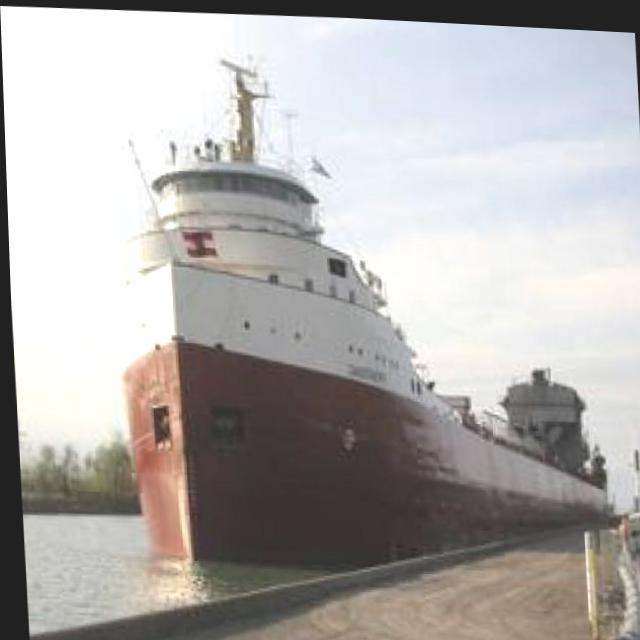ship2: (111, 63, 610, 565)
